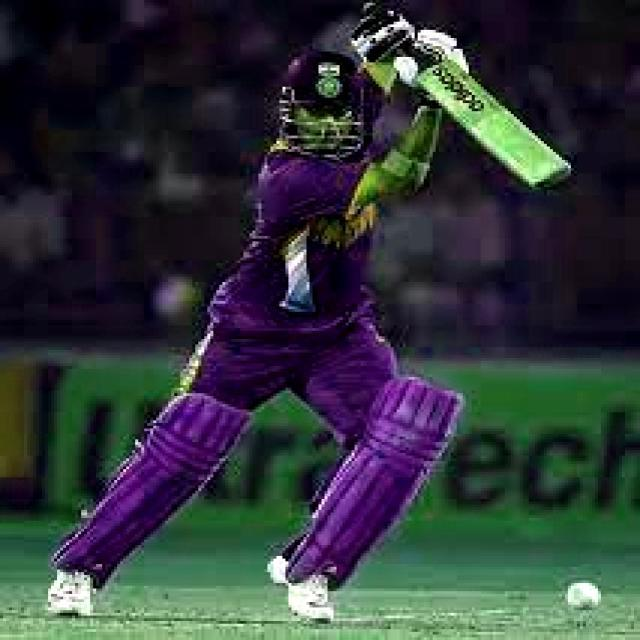bat: (410, 64, 577, 197), (530, 166, 571, 190)
